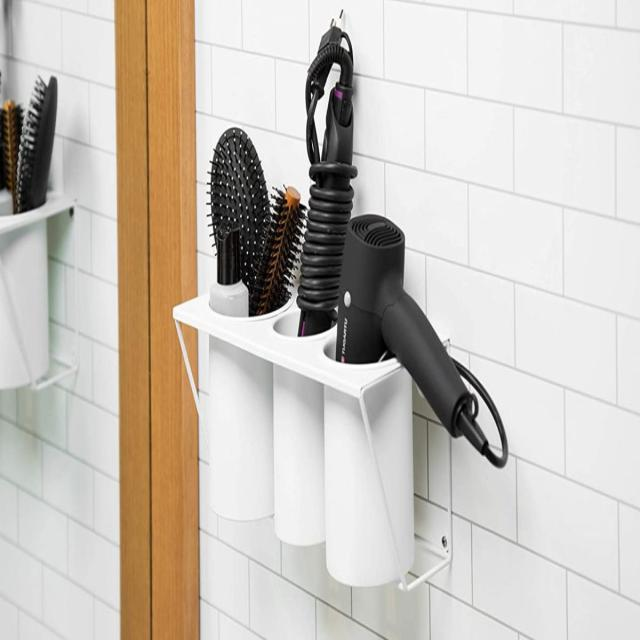dryer: (326, 198, 516, 478)
